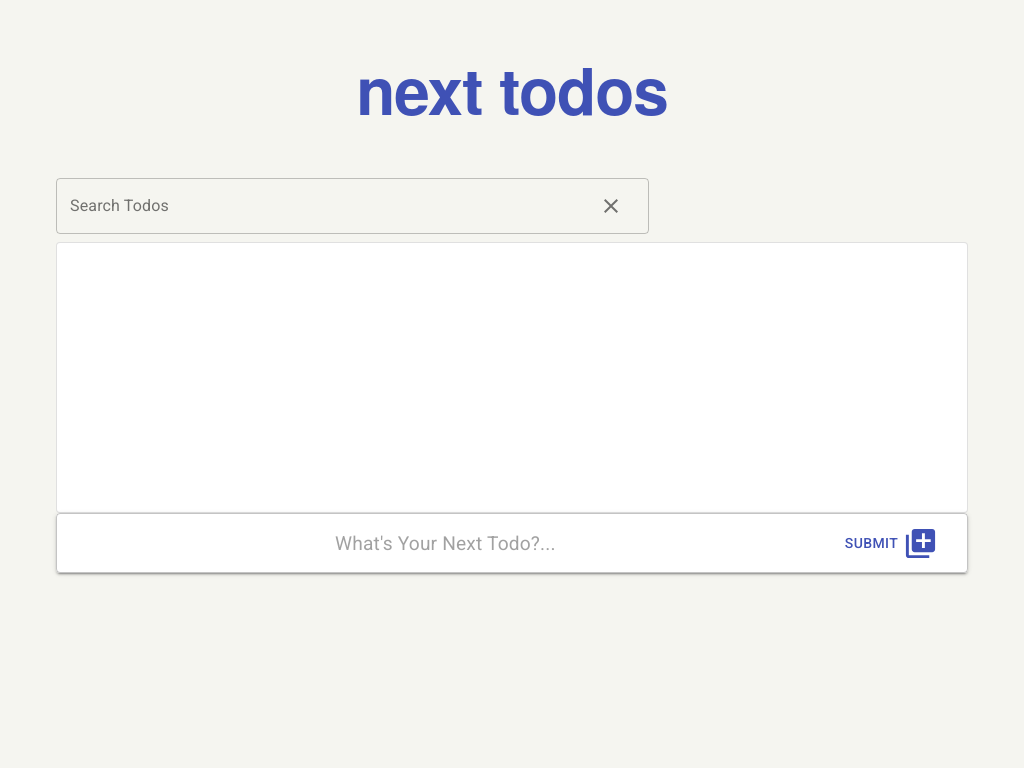
Scenario: Adding todo items › Add a single todo item | Click Path
Type "Add a todo by clicking" into the field with placeholder "What's Your Next Todo?..." at [439, 543], box [56,513,821,573]
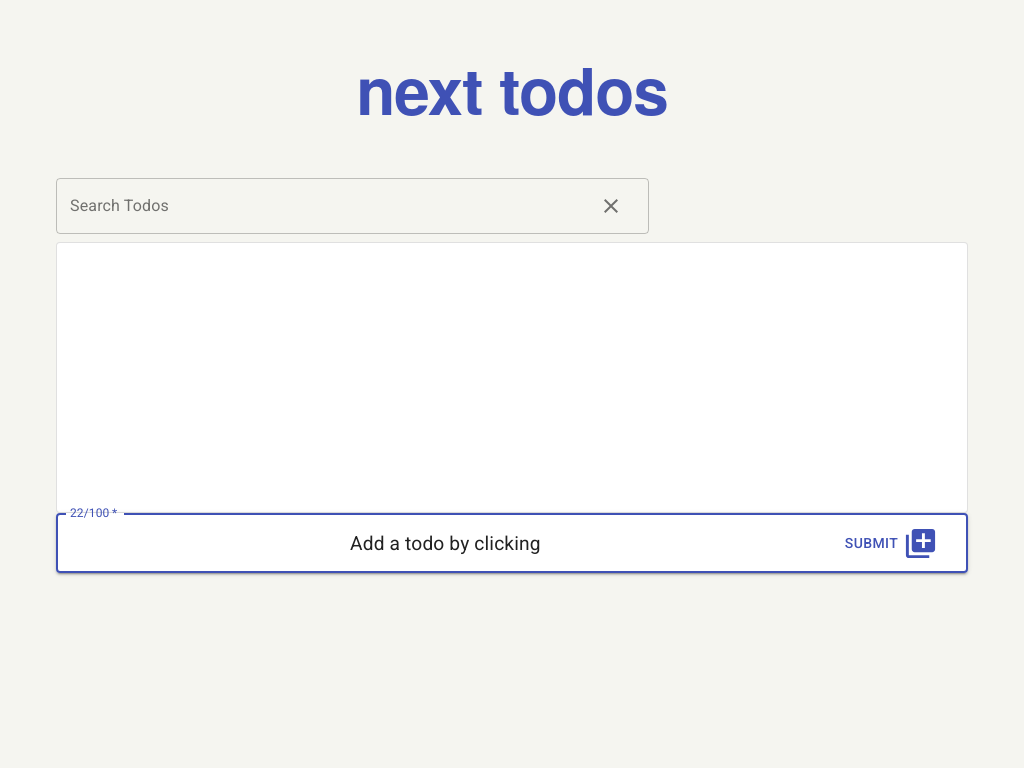
Click the button with class "add-button" at [894, 544], box [829,520,959,567]
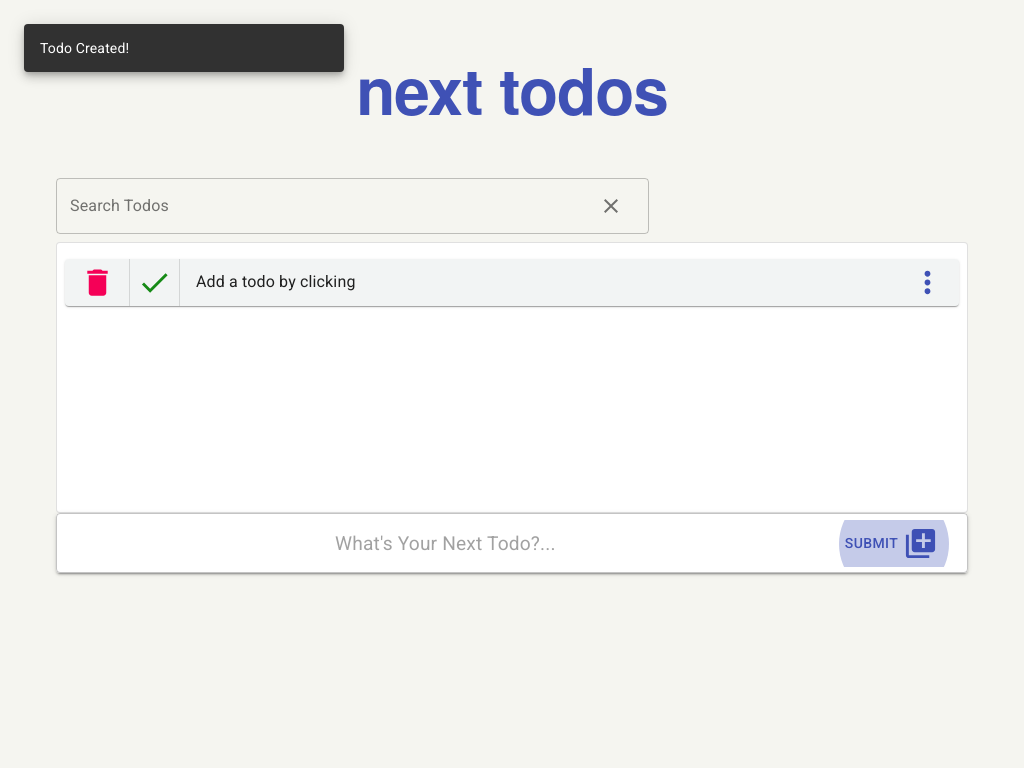
Expected: the text "Add a todo by clicking" is shown, [196,272,356,291]
